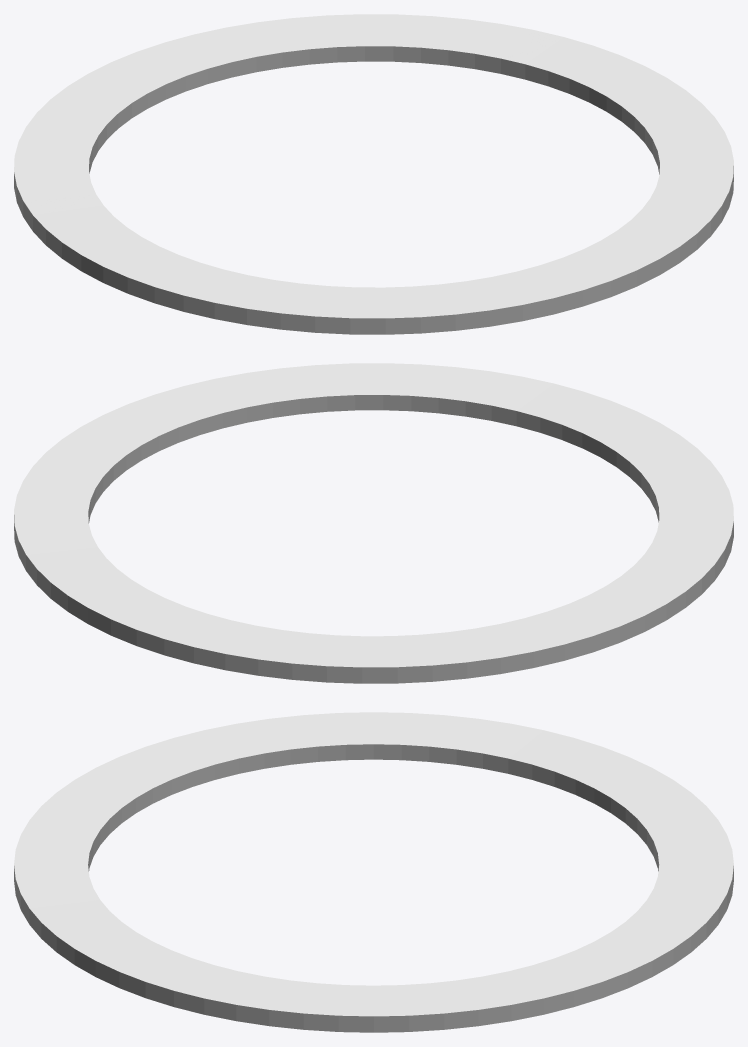
The model's file is SharpRing_80x80x2.fbx.
The picture shows the model from 3 angles, top to bottom: view 1: azimuth 30°, elevation 25°; view 2: azimuth 150°, elevation 25°; view 3: azimuth 270°, elevation 25°; orthographic projection.
Visible parts, largest first — view 1: SharpRing_80x80x2; view 2: SharpRing_80x80x2; view 3: SharpRing_80x80x2.
Boxes of the visible parts, bbox=[...] form: SharpRing_80x80x2: bbox=[14, 14, 733, 334]; SharpRing_80x80x2: bbox=[14, 363, 733, 683]; SharpRing_80x80x2: bbox=[14, 712, 733, 1032].
Size of the model in its own units: 80 by 2 by 80.
